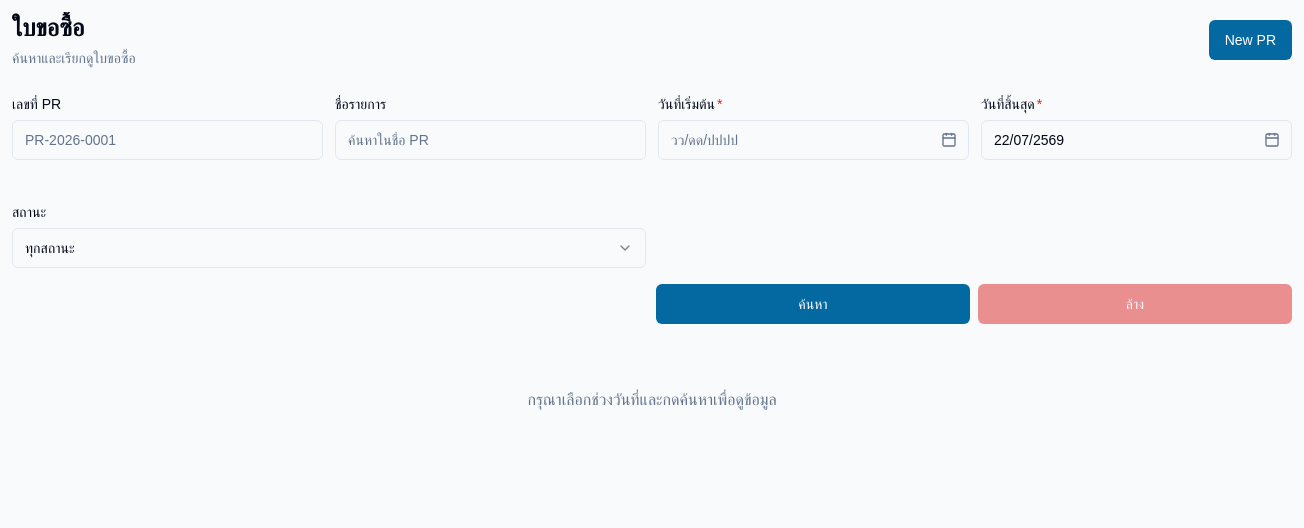
Test: PRListPage › ล้าง returns to initial prompt and disables the query
This screenshot has width=1304, height=528.
Type "01012569" into the field labelled "วันที่เริ่มต้น*" at (814, 140), box [658, 120, 969, 160]
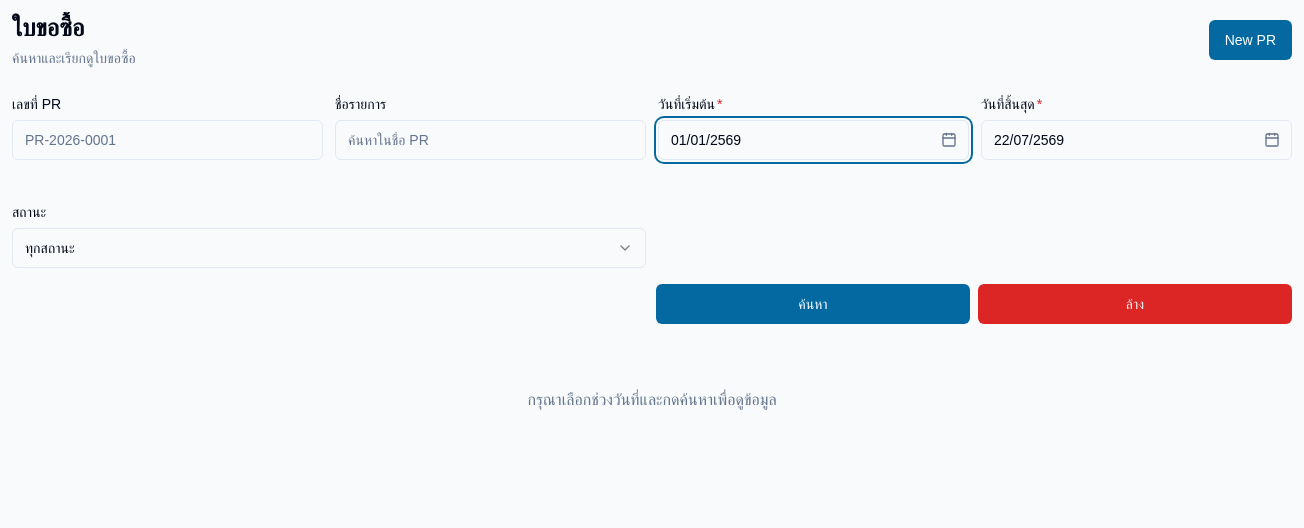
Replace the text in the field labelled "วันที่สิ้นสุด*" with "31122569" at (1136, 140), box [981, 120, 1292, 160]
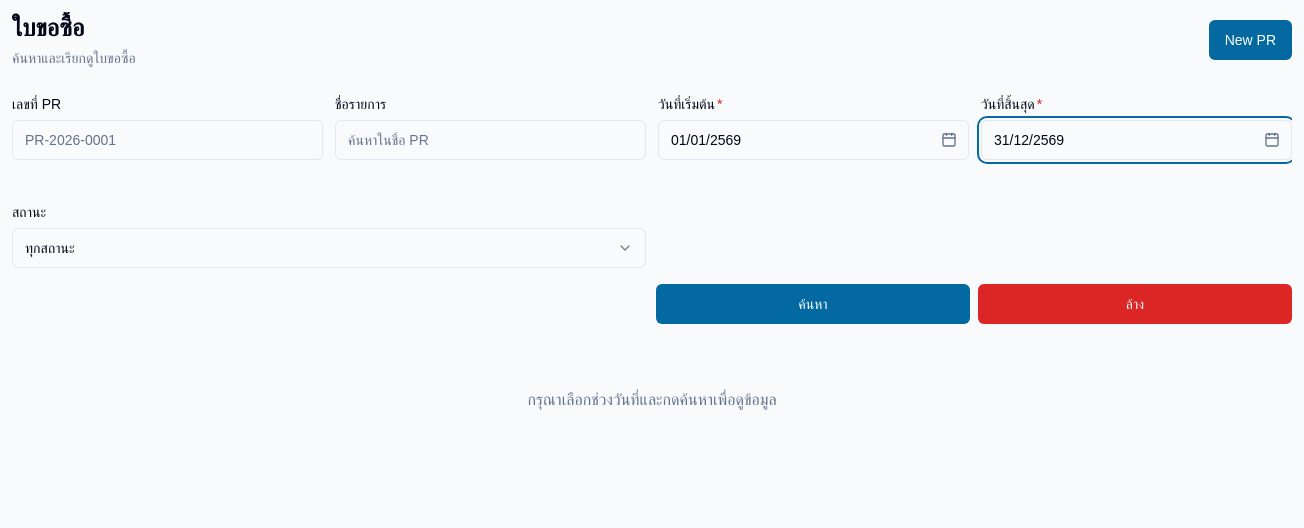
Click the button "ค้นหา" at (813, 304), box [656, 284, 970, 324]
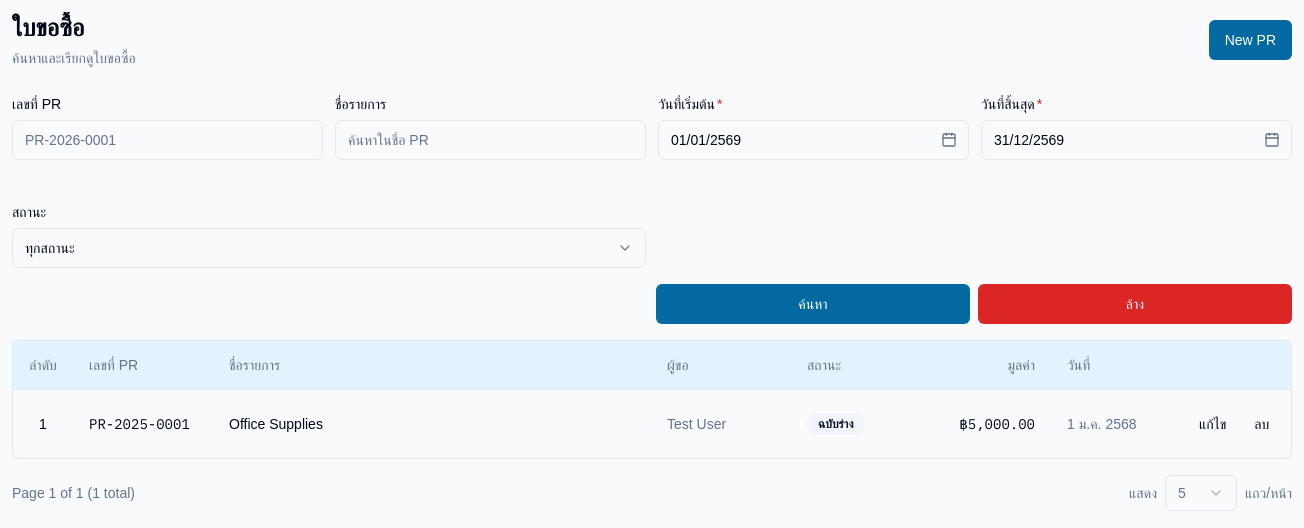
Result: the text "กรุณาเลือกช่วงวันที่และกดค้นหา" is gone
Result: the link "PR-2025-0001" is shown at [89, 414, 190, 432]
Click the button "ล้าง" at (1135, 304), box [978, 284, 1292, 324]
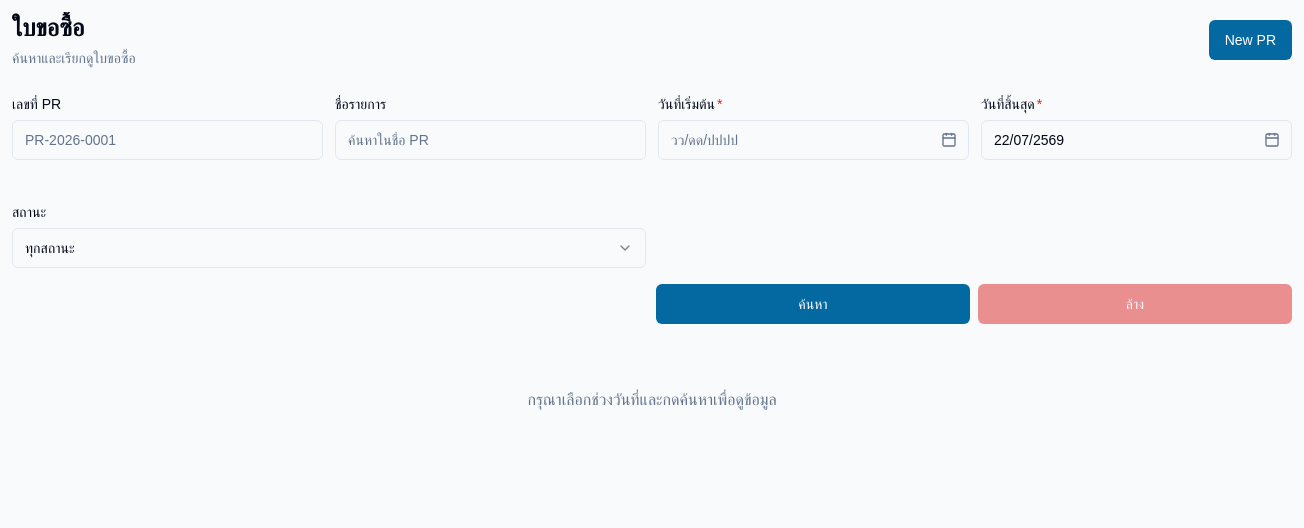
Result: the text "กรุณาเลือกช่วงวันที่และกดค้นหาเพื่อดูข้อมูล" is shown at [527, 391, 777, 408]
